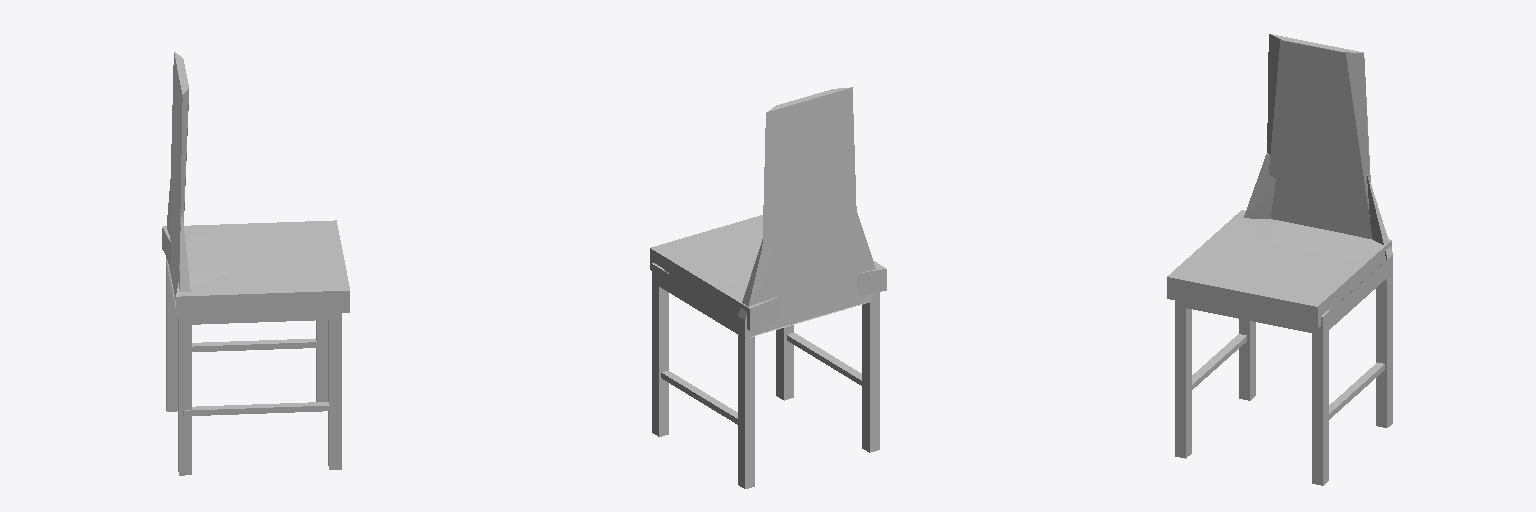
The model's file is silla.obj.
3 views of the same model, side by side, from view 1: azimuth 30°, elevation 25°; view 2: azimuth 150°, elevation 25°; view 3: azimuth 270°, elevation 25° (orthographic).
Visible parts, largest first — view 1: polySurface24 polySurface56, polySurface64 polySurface24, polySurface63; view 2: polySurface64 polySurface24, polySurface24 polySurface56, polySurface63; view 3: polySurface64 polySurface24, polySurface24 polySurface56, polySurface63.
Boxes of the visible parts, box(x1,y1,x2,y2) form: polySurface24 polySurface56: box(162, 220, 349, 318); polySurface64 polySurface24: box(166, 52, 341, 475); polySurface63: box(183, 338, 337, 415); polySurface64 polySurface24: box(652, 87, 879, 488); polySurface24 polySurface56: box(650, 215, 886, 330); polySurface63: box(661, 333, 861, 424); polySurface64 polySurface24: box(1175, 34, 1392, 485); polySurface24 polySurface56: box(1167, 210, 1391, 328); polySurface63: box(1192, 334, 1384, 419).
Bounding box in the file's own units: 0.4849 × 0.8567 × 0.4777.